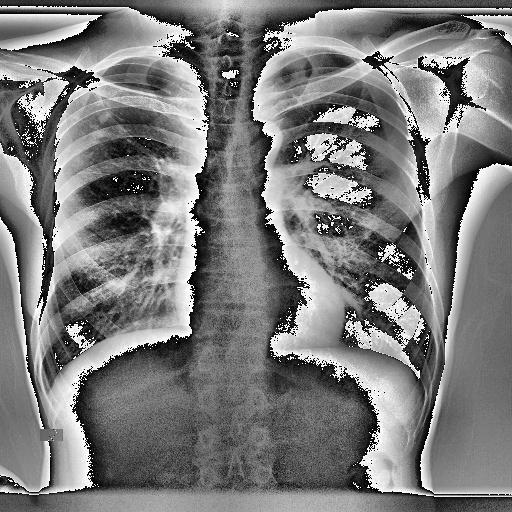11- Pleural thickening: (278, 52, 315, 84)
13- Pulmonary fibrosis: (66, 98, 172, 174), (66, 104, 136, 156), (66, 105, 132, 141)
7- Lung Opacity: (278, 52, 315, 84)
